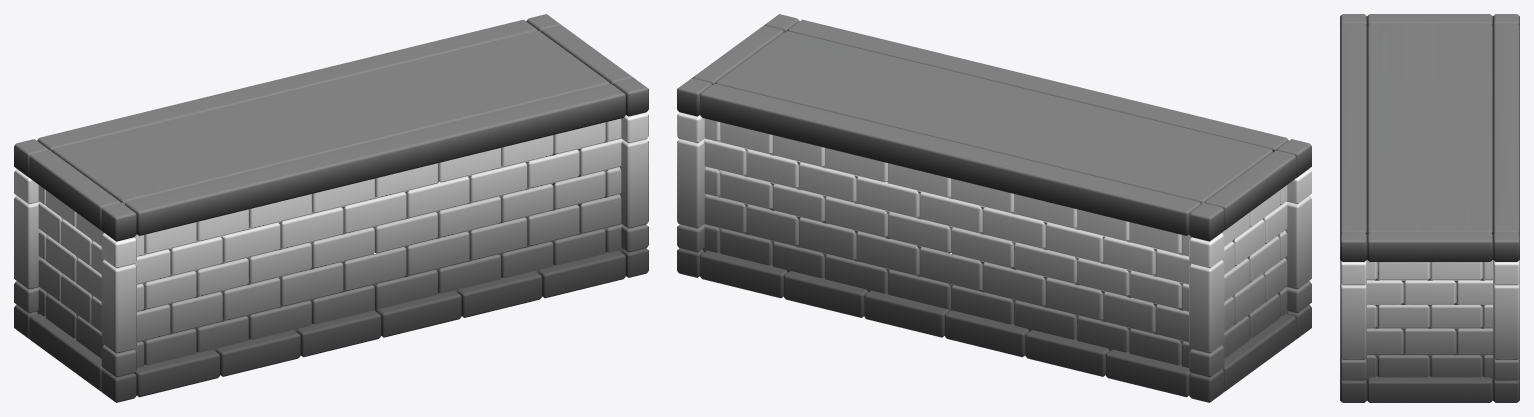
Rendered from SM_Stone_Body_05.fbx.
3 renders of one model, left to right at view 1: azimuth 30°, elevation 25°; view 2: azimuth 150°, elevation 25°; view 3: azimuth 270°, elevation 25°, orthographic. The views are drawn at different scales.
Visible parts, largest first — view 1: SM_Stone_Body_05; view 2: SM_Stone_Body_05; view 3: SM_Stone_Body_05.
Boxes of the visible parts, box(x1,y1,x2,y2) form: SM_Stone_Body_05: box(14, 14, 648, 402); SM_Stone_Body_05: box(677, 14, 1311, 402); SM_Stone_Body_05: box(1340, 14, 1519, 402).
Size of the model in its own units: 3 by 0.9996 by 0.9996.
